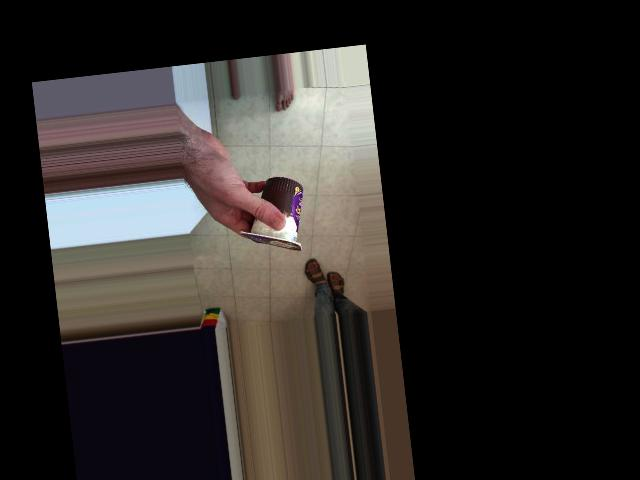milky: (251, 175, 311, 259)
